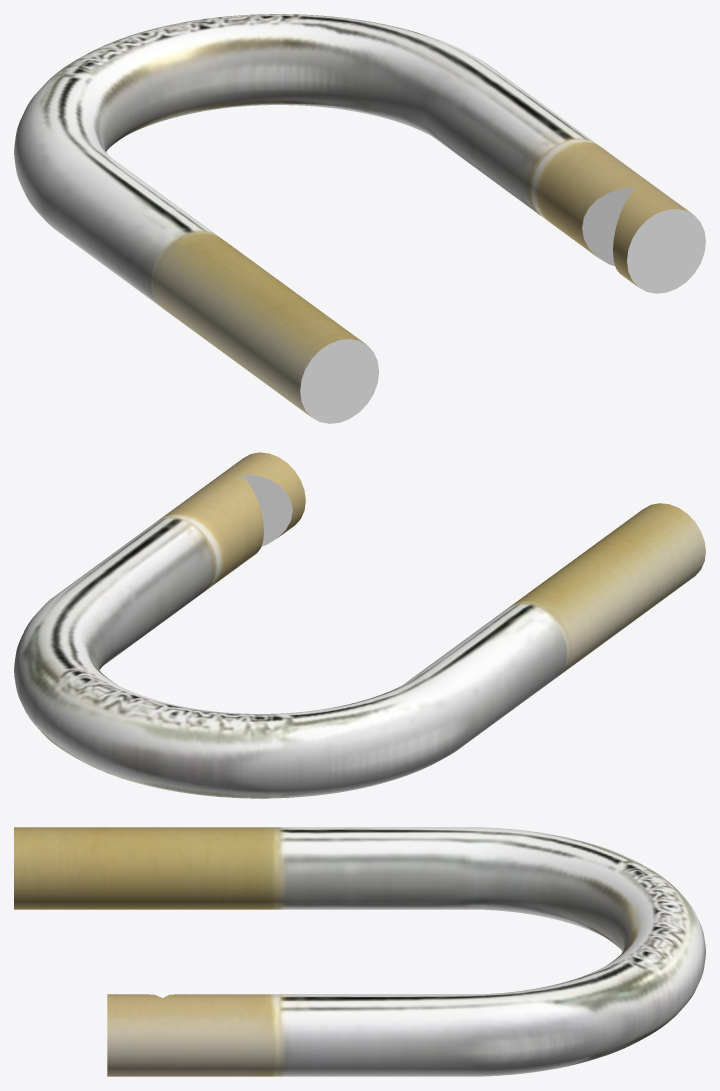
Rendered from U metal.fbx.
3 views of the same model, one above another, from view 1: azimuth 30°, elevation 25°; view 2: azimuth 150°, elevation 25°; view 3: azimuth 270°, elevation 25° (orthographic). The views are drawn at different scales.
Visible parts, largest first — view 1: Group1; view 2: Group1; view 3: Group1.
Part boxes in pixels (left/top/right/bottom): Group1: left=14, top=14, right=705, bottom=423; Group1: left=14, top=452, right=705, bottom=798; Group1: left=14, top=827, right=705, bottom=1076.
Size of the model in its own units: 0.0467 by 0.00806 by 0.0676.
